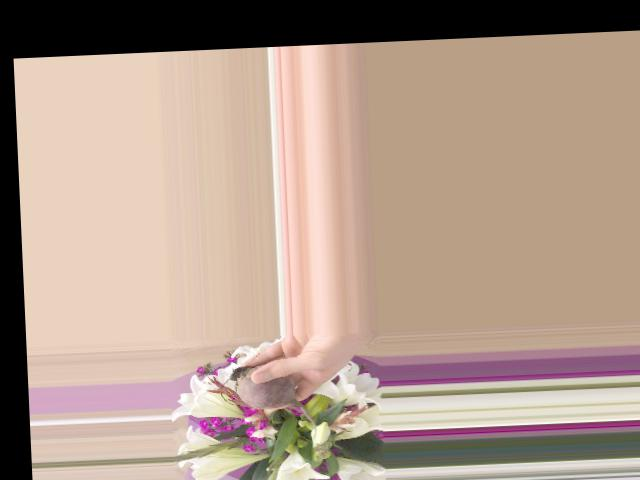beet: (218, 362, 316, 442)
